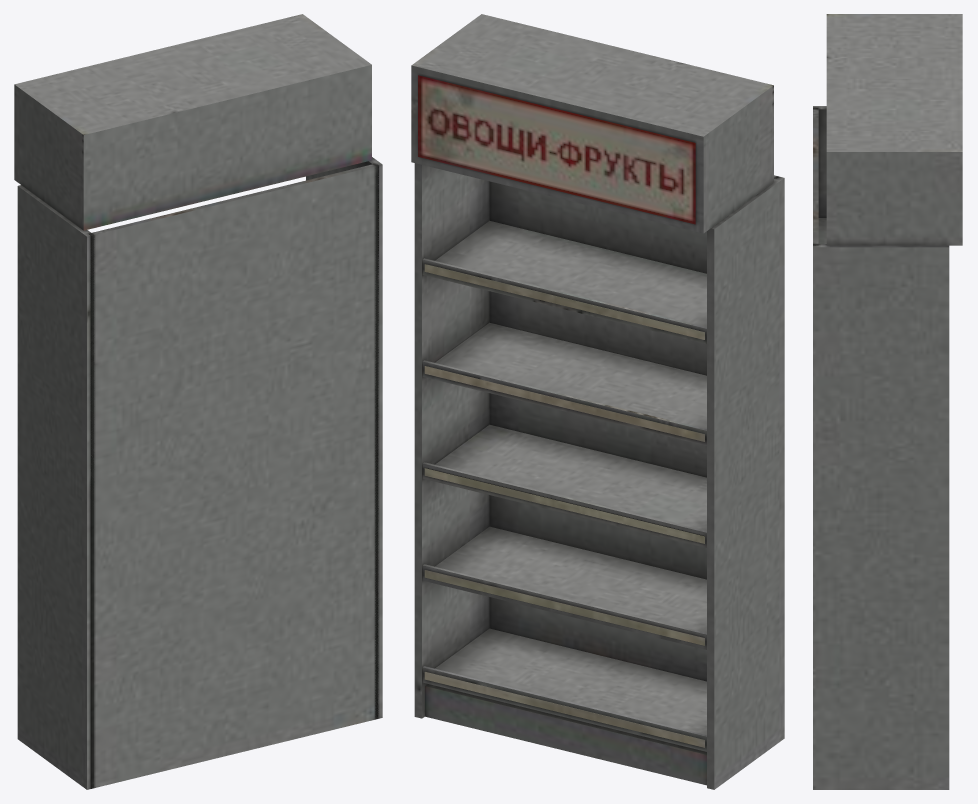
The model's file is wall_rack_ovoshchi_lod1_web.glb.
3 renders of one model, left to right at view 1: azimuth 30°, elevation 25°; view 2: azimuth 150°, elevation 25°; view 3: azimuth 270°, elevation 25°, orthographic. The views are drawn at different scales.
Visible parts, largest first — view 1: WallRackOvoshchi_Body; view 2: WallRackOvoshchi_Body; view 3: WallRackOvoshchi_Body.
Part boxes in pixels (x1,y1,x2,y2): WallRackOvoshchi_Body: (14, 14, 382, 789); WallRackOvoshchi_Body: (411, 14, 784, 789); WallRackOvoshchi_Body: (813, 14, 962, 789).
Bounding box in the file's own units: 1.23 × 2.58 × 0.554.
1 material, 1 textured.
